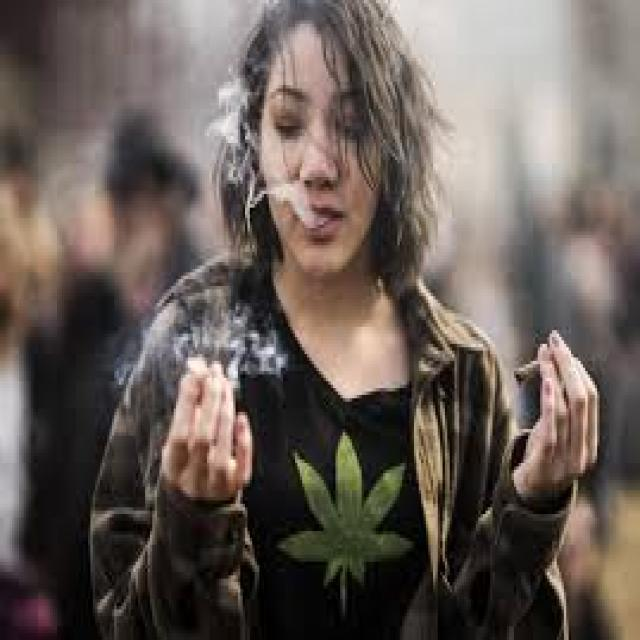Smoke: (193, 309, 296, 388), (212, 79, 255, 195), (241, 186, 326, 232)
